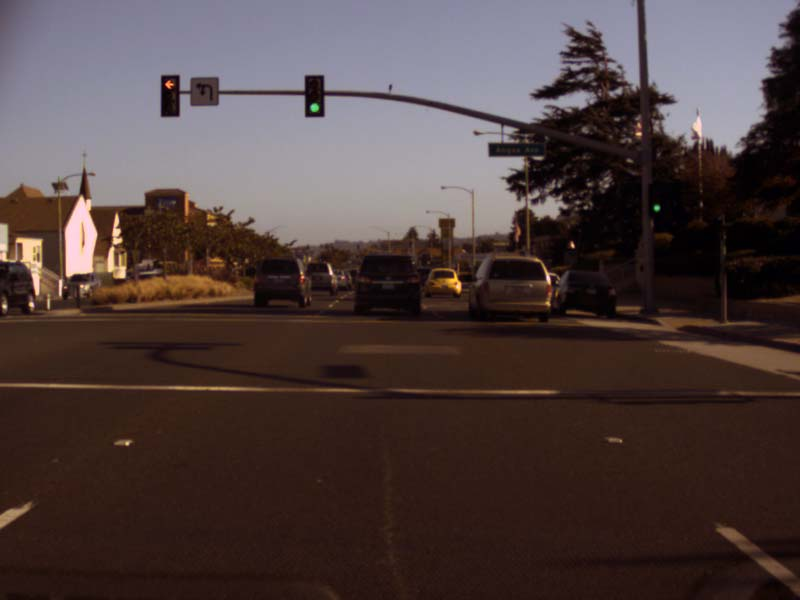Green: (304, 74, 323, 116), (646, 183, 662, 215)
Red: (161, 74, 179, 116)
